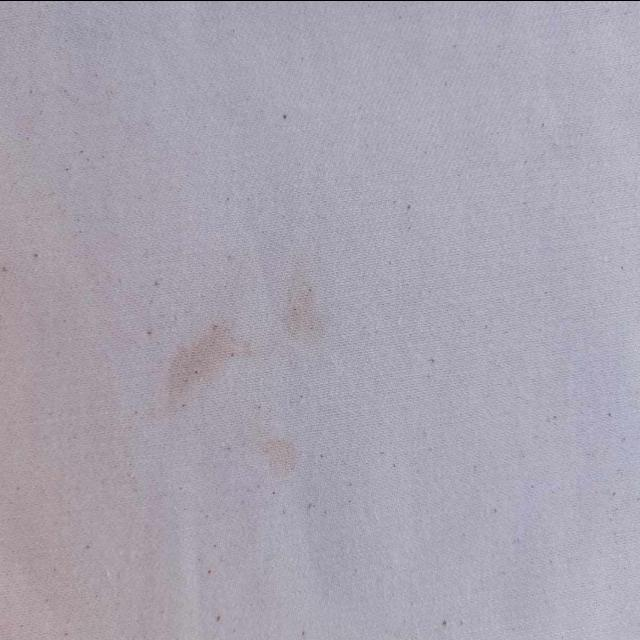taaaches: (153, 316, 245, 406), (270, 272, 338, 336), (258, 418, 312, 489)
